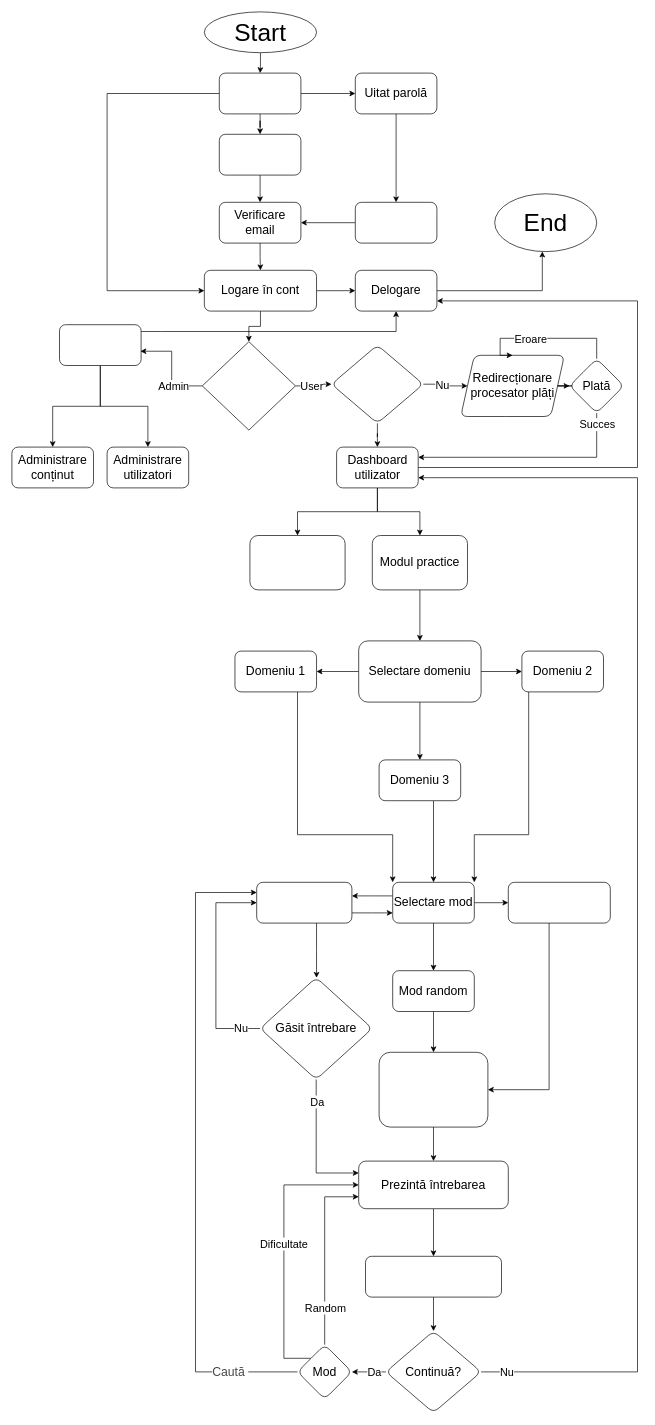
This 655x1425 diagram has some shape labels left out. The centre of each missing label's shape, as x and y in pixels:
"Abonament pl ă tit" belongs at pixel 377 383.
"Creare utilizator" belongs at pixel 260 154.
"Dashboard admin" belongs at pixel 100 345.
"Deschide aplicația" belongs at pixel 260 93.
"Management profil utilizator" belongs at pixel 297 562.
"Mod caut ă intrebare" belongs at pixel 304 902.
"Mod dificultate" belongs at pixel 559 902.
"Prezint ă r ă spunsul" belongs at pixel 433 1276.
"Recuperare parol ă" belongs at pixel 396 222.
"Start interfaț ă Practice" belongs at pixel 433 1089.
"Tip utilizator" belongs at pixel 248 385.
